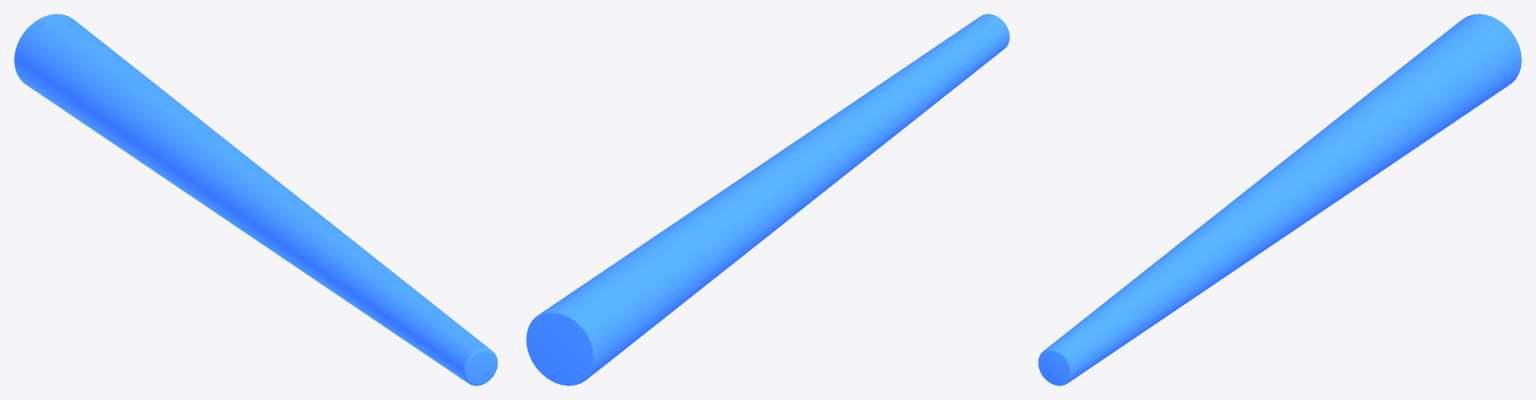
The model's file is proj_lance_bolt.glb.
3 views of the same model, side by side, from view 1: azimuth 30°, elevation 25°; view 2: azimuth 150°, elevation 25°; view 3: azimuth 330°, elevation 25° (orthographic).
Parts seen in each view (by area): view 1: proj_lance_bolt_core; view 2: proj_lance_bolt_core; view 3: proj_lance_bolt_core.
Boxes of the visible parts, x1,y1,x2,y2 form: proj_lance_bolt_core: [14, 14, 497, 385]; proj_lance_bolt_core: [526, 14, 1009, 385]; proj_lance_bolt_core: [1038, 14, 1521, 385].
Size of what is drawn, in the model's own units: 0.07 by 0.07 by 0.75.
